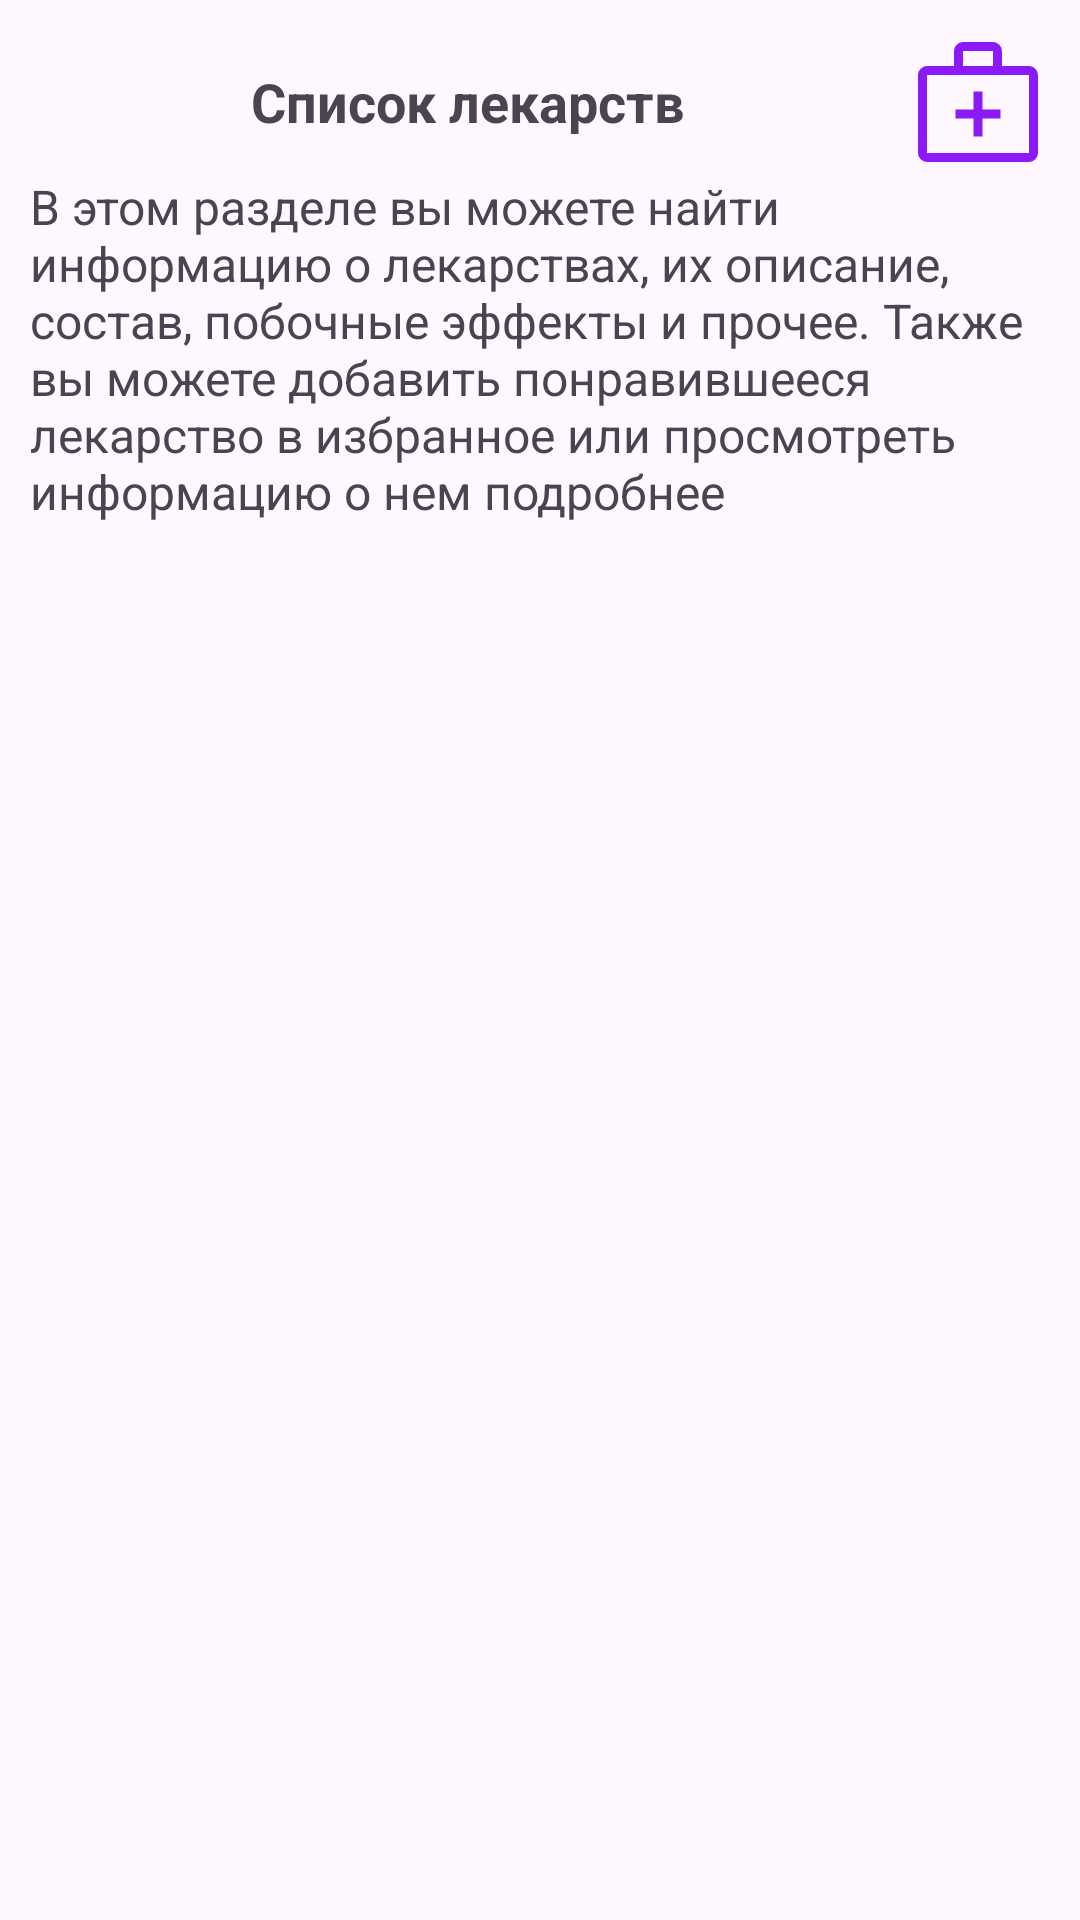

Screen size 1080w x 1920h. Icon name, then its center in pixels as (x,y):
medicine: (978,102)
